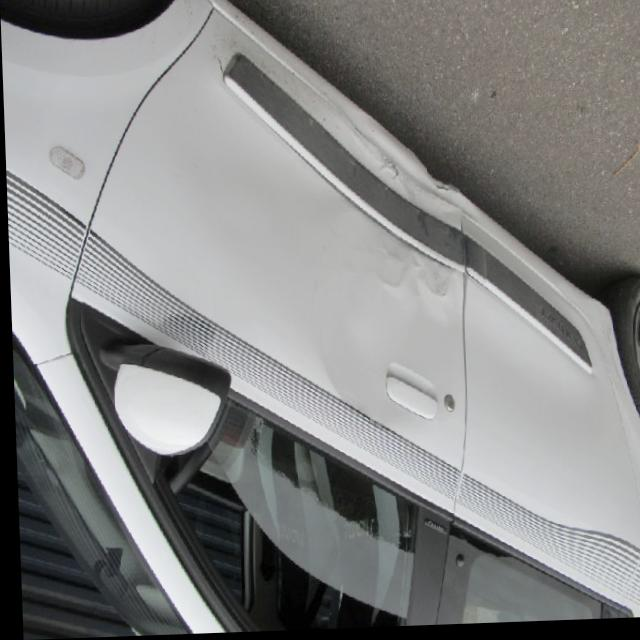porte-avant: (55, 11, 475, 638)
